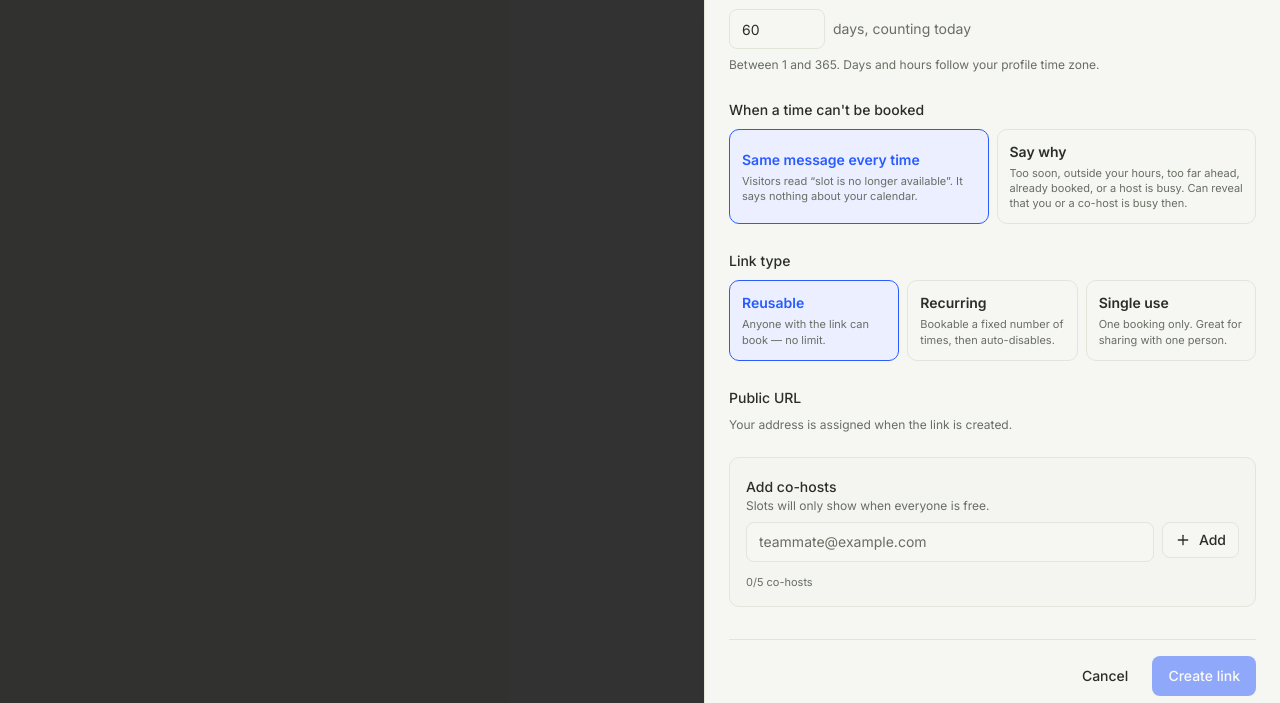
LinkEditDrawer co-host chips (PAC-41) › AC-8: a co-host whose status is known reads 'Availability synced' and nothing in the chip names a provider
(page scrolled)
Step 1. Type "dana@co.com" into the field with placeholder "teammate@example.com" → (950, 542), box top-left (746, 522), bottom-right (1154, 562)
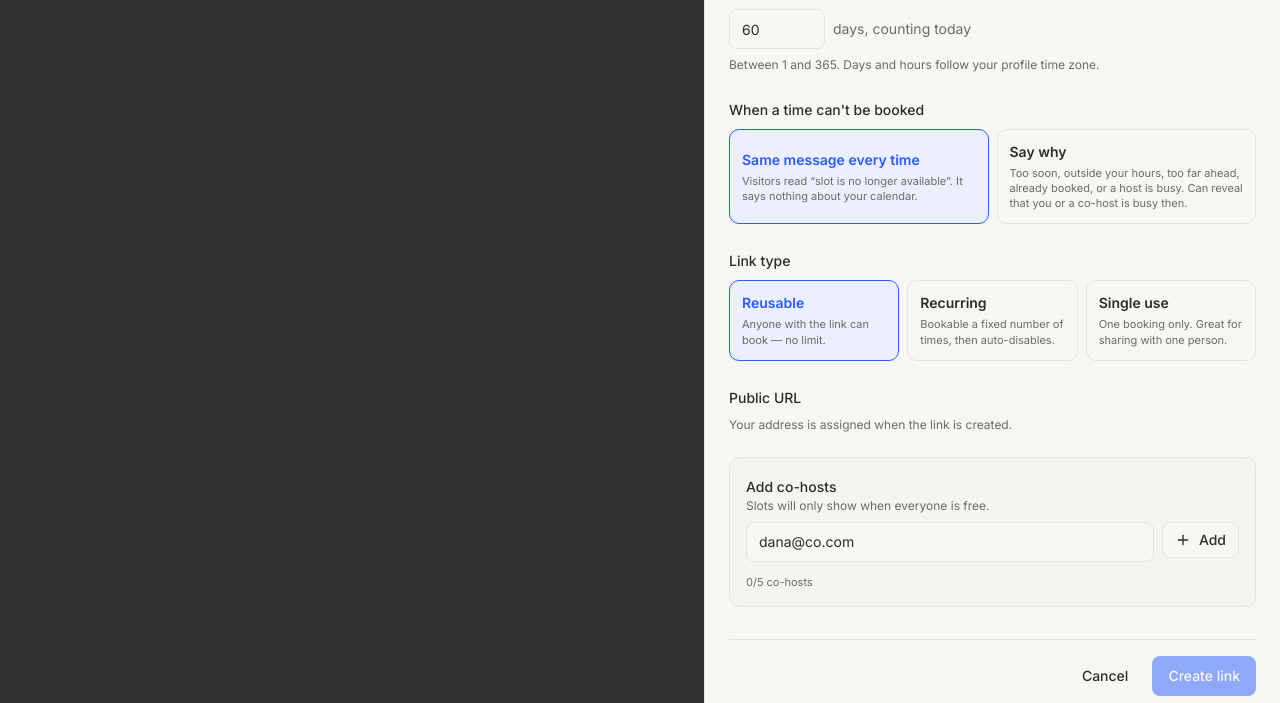
Step 2. Click the button "Add" → (1200, 540), box top-left (1162, 522), bottom-right (1239, 558)
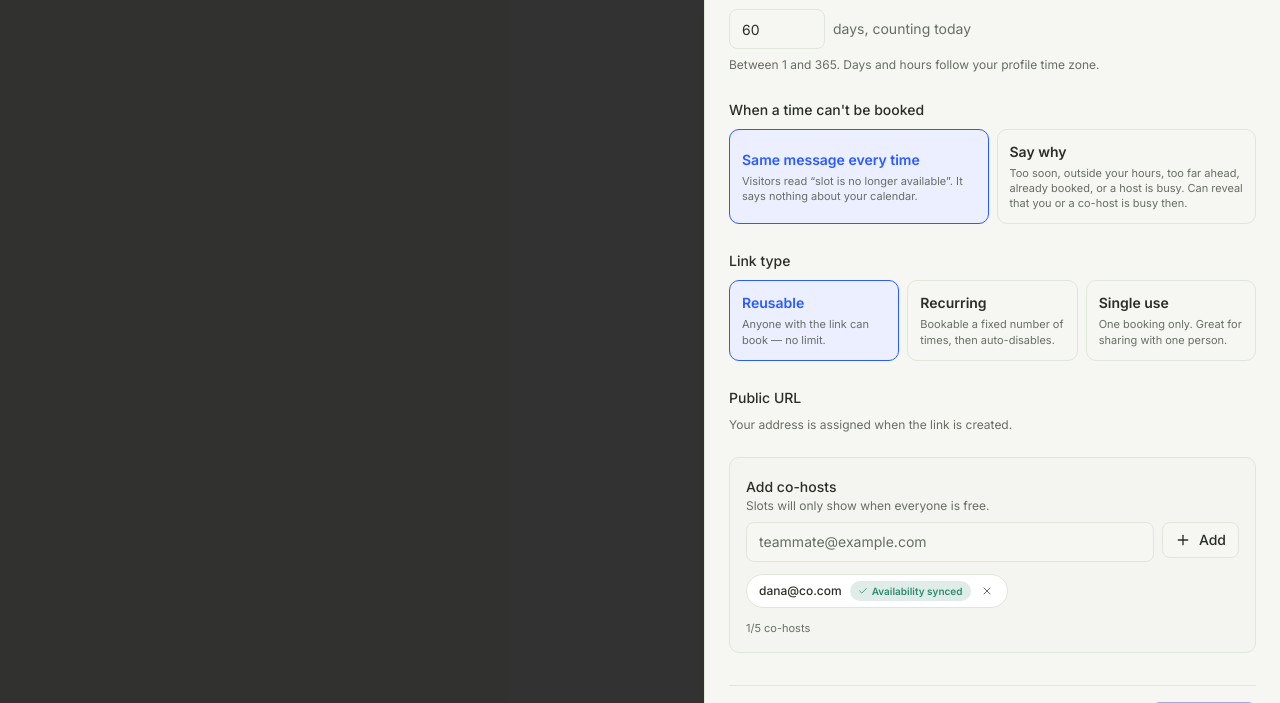
Step 3. Focus the text "Availability synced" → (910, 591), box top-left (850, 581), bottom-right (970, 601)
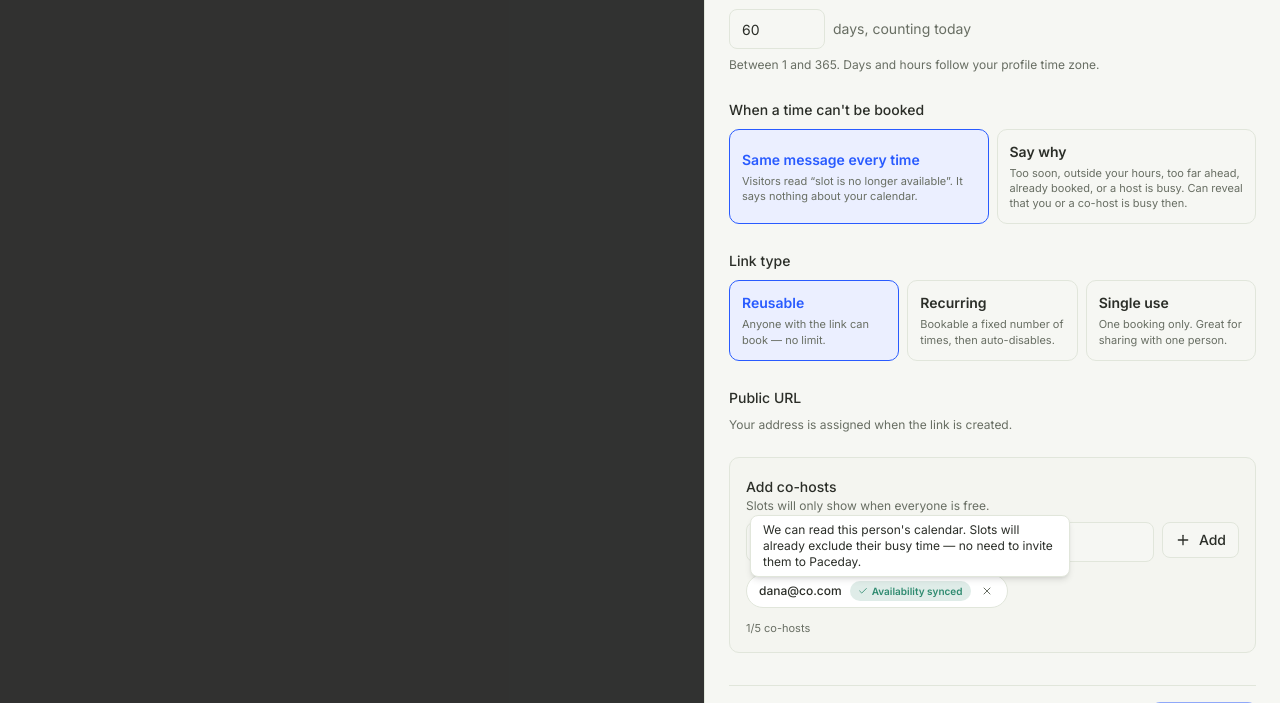
Now the tooltip shows "We can read this person's calendar.", box top-left (763, 522), bottom-right (1053, 569)
